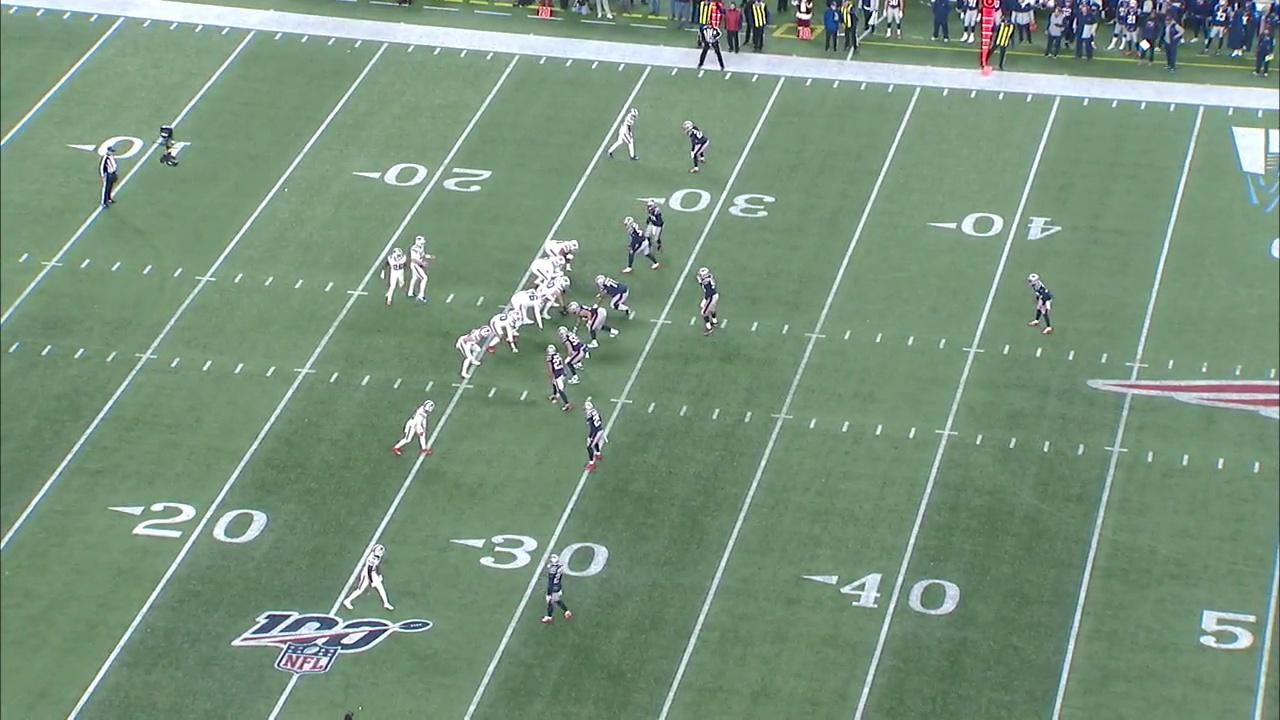player: (341, 542, 397, 613), (535, 550, 576, 629), (391, 399, 438, 459), (566, 301, 620, 350), (619, 214, 662, 275), (453, 324, 494, 381), (406, 232, 437, 307), (589, 273, 637, 321), (507, 286, 551, 337), (605, 105, 642, 164), (693, 265, 722, 338), (557, 325, 592, 385), (581, 398, 609, 473), (545, 342, 574, 414), (379, 244, 409, 308), (1026, 271, 1055, 337), (486, 307, 524, 355), (535, 274, 573, 321), (681, 118, 712, 174), (543, 238, 581, 276), (643, 197, 666, 255), (530, 254, 567, 287)
ref: (694, 19, 729, 74), (97, 144, 122, 214)
